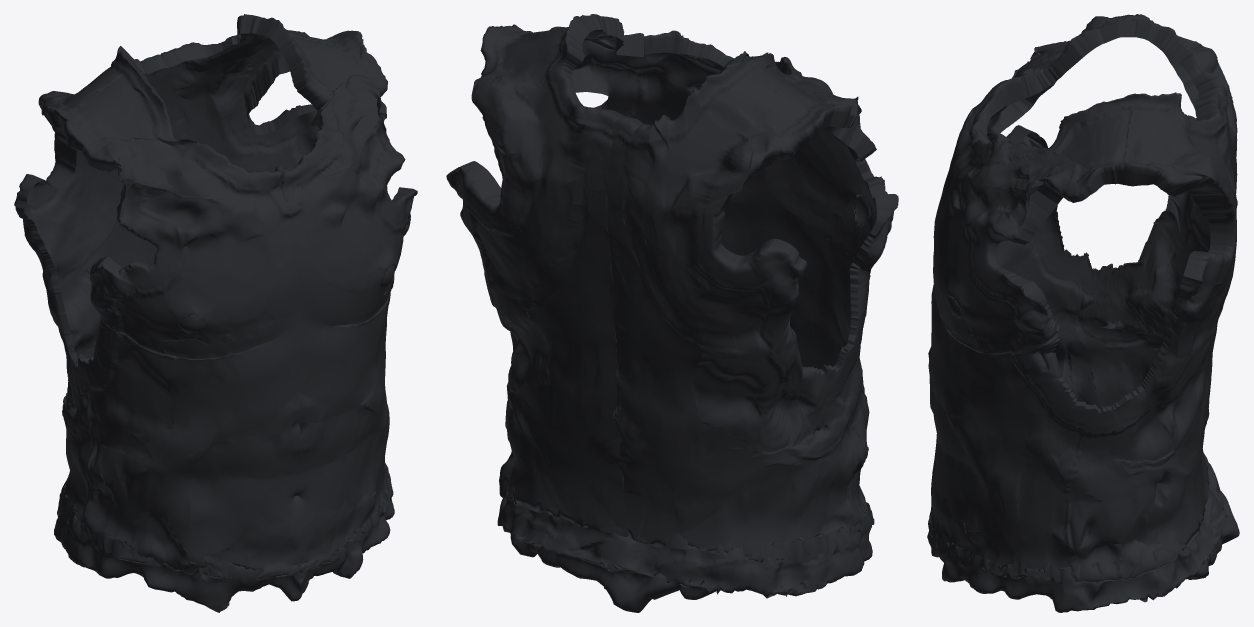
Rendered from top_tank.glb.
3 renders of one model, left to right at view 1: azimuth 30°, elevation 25°; view 2: azimuth 150°, elevation 25°; view 3: azimuth 270°, elevation 25°, orthographic. The views are drawn at different scales.
Parts seen in each view (by area): view 1: top_tank; view 2: top_tank; view 3: top_tank.
Boxes of the visible parts, x1,y1,x2,y2 form: top_tank: (14,14,417,612); top_tank: (446,14,898,612); top_tank: (927,14,1239,612).
Size of the model in its own units: 0.3372 by 0.4878 by 0.2741.
1 material, 1 textured.
